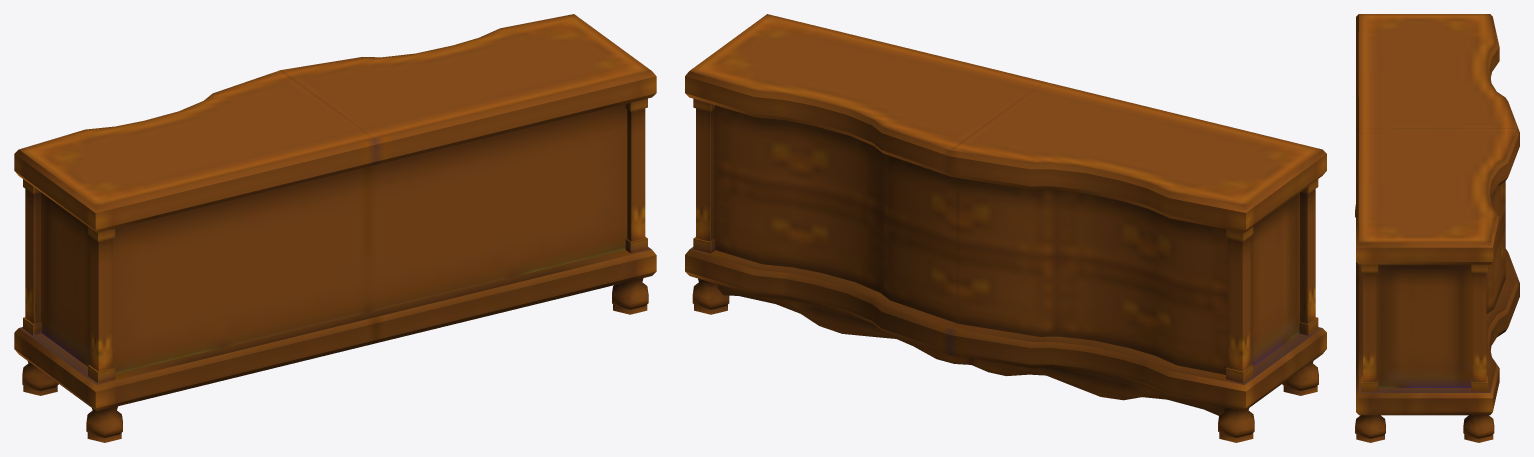
The model's file is Cabinet_05.gltf.
3 renders of one model, left to right at view 1: azimuth 30°, elevation 25°; view 2: azimuth 150°, elevation 25°; view 3: azimuth 270°, elevation 25°, orthographic. The views are drawn at different scales.
Visible parts, largest first — view 1: Cabinet_05; view 2: Cabinet_05; view 3: Cabinet_05.
Part boxes in pixels (left/top/right/bottom): Cabinet_05: left=14, top=14, right=656, bottom=442; Cabinet_05: left=685, top=14, right=1326, bottom=442; Cabinet_05: left=1355, top=14, right=1519, bottom=442.
Size of the model in its own units: 107 by 43.09 by 32.23.
Materials: 1 (1 with a texture image).
